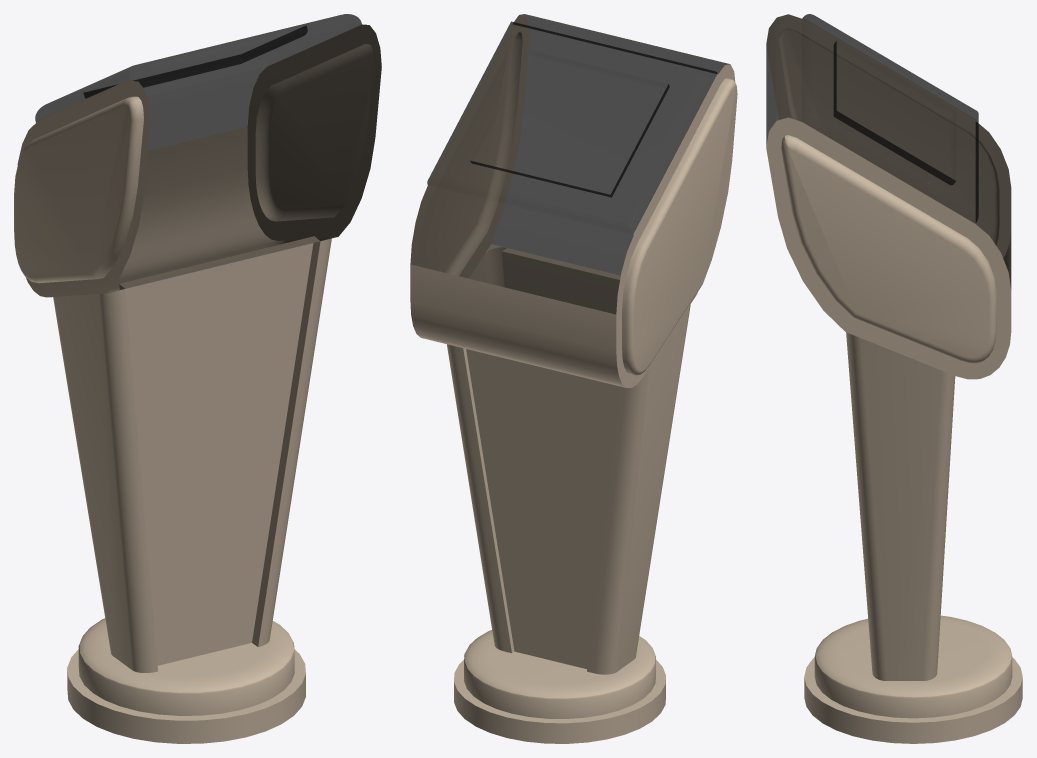
Rendered from tuas.fbx.
3 views of the same model, side by side, from view 1: azimuth 30°, elevation 25°; view 2: azimuth 150°, elevation 25°; view 3: azimuth 270°, elevation 25° (orthographic). The views are drawn at different scales.
Visible parts, largest first — view 1: Cube; view 2: Cube; view 3: Cube.
Part boxes in pixels (x1,y1,x2,y2): Cube: (14,14,381,743); Cube: (410,14,737,743); Cube: (766,14,1022,743).
Bounding box in the file's own units: 4.26 × 11.18 × 4.1.
